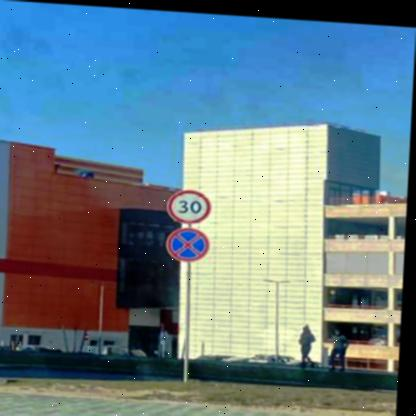Speed Limit -30-: (169, 184, 215, 223)
